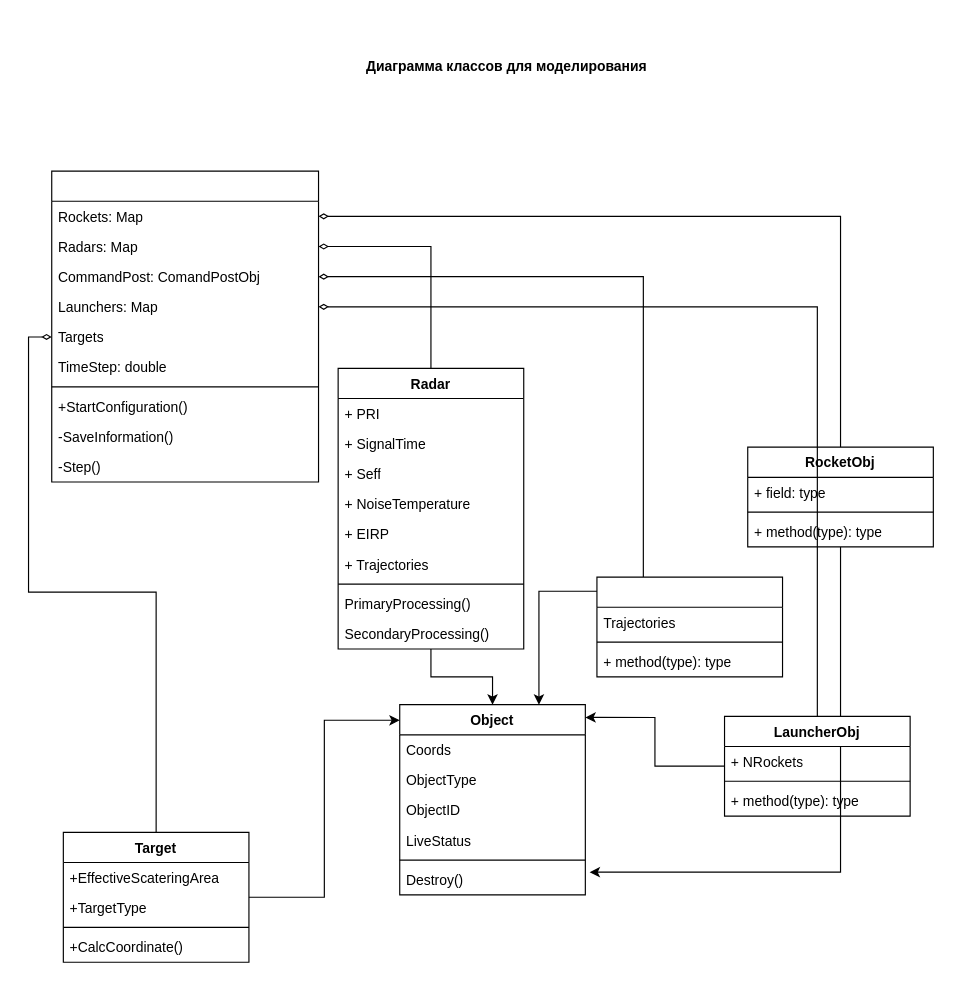
Some shapes in this 954 by 985 pixel diagram are drawn without their labels. Here are the shapes that lost their labels. From the top down, the box of each, then its label:
(51, 170, 319, 482): SimulationManager
(596, 576, 783, 677): ComandPostObj
